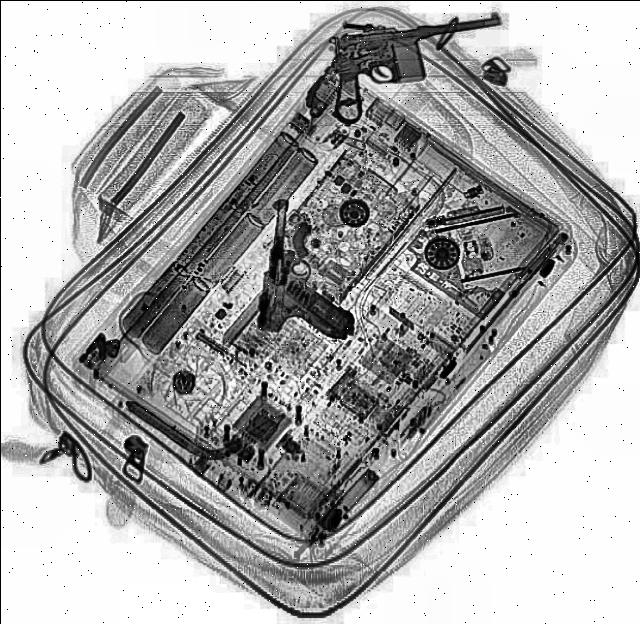Gun: (321, 12, 517, 128), (254, 201, 370, 342)
